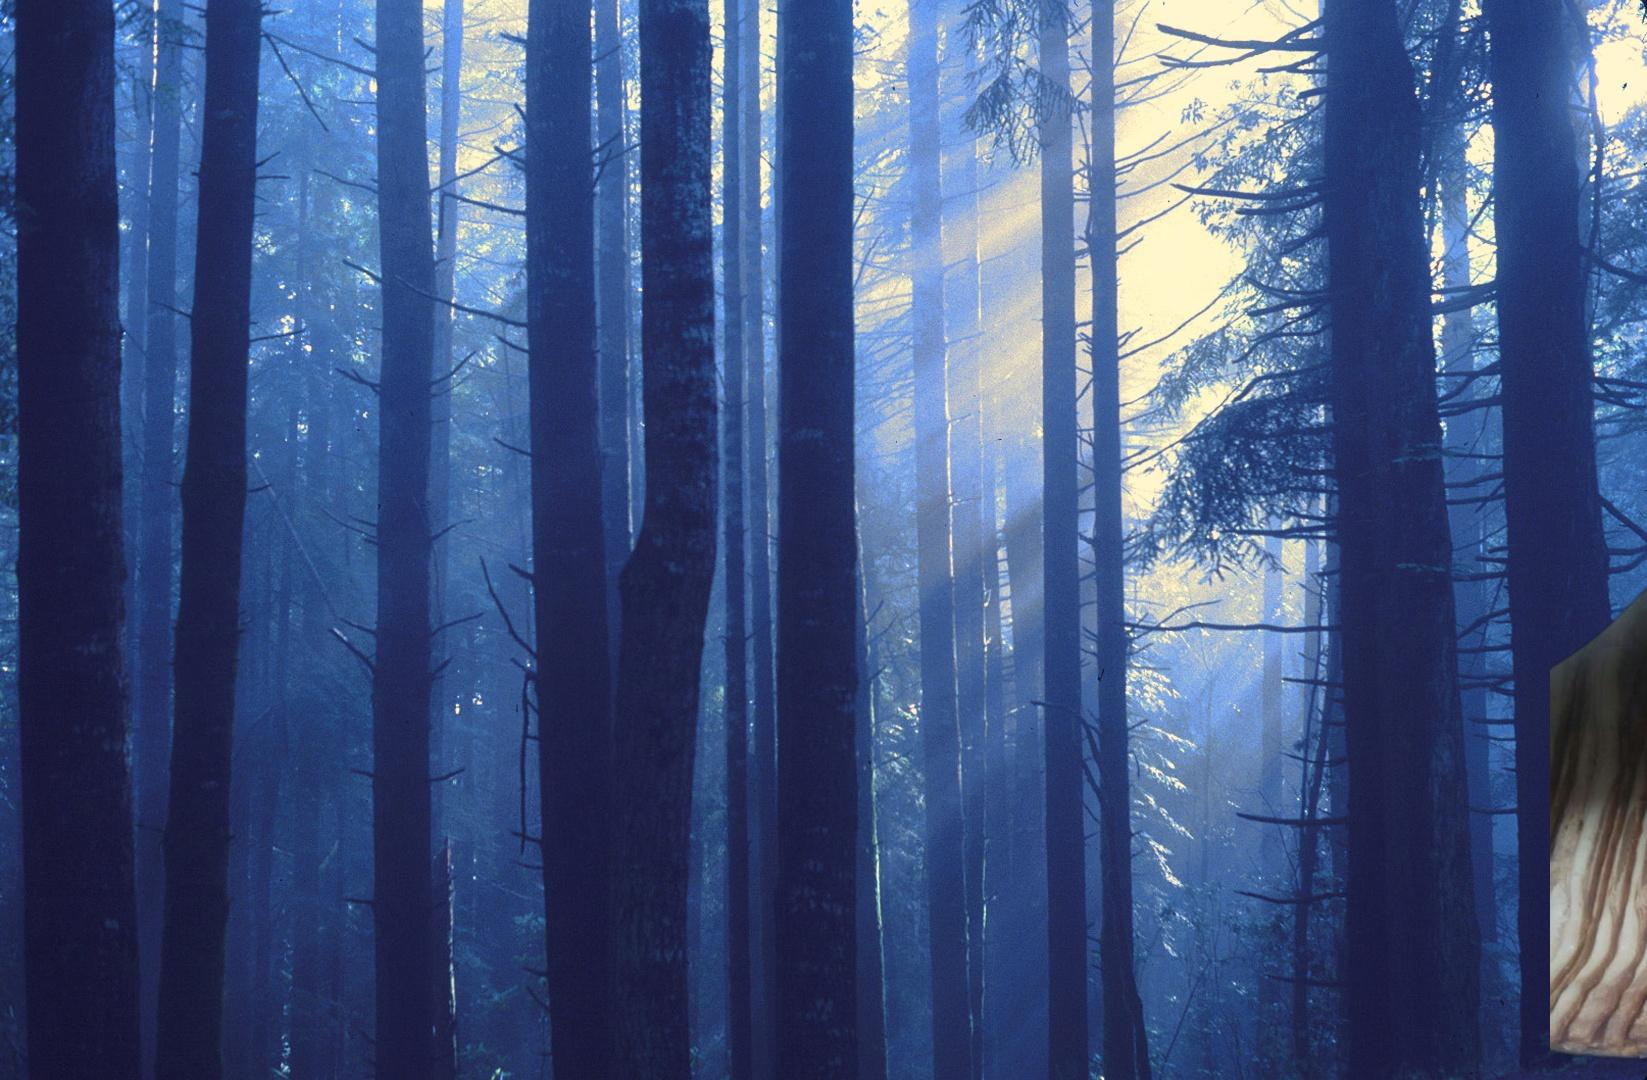biological: (1549, 564, 1647, 1072)
metal-cans: (1639, 809, 1647, 914)
plastic-bag: (1636, 939, 1647, 1080)
